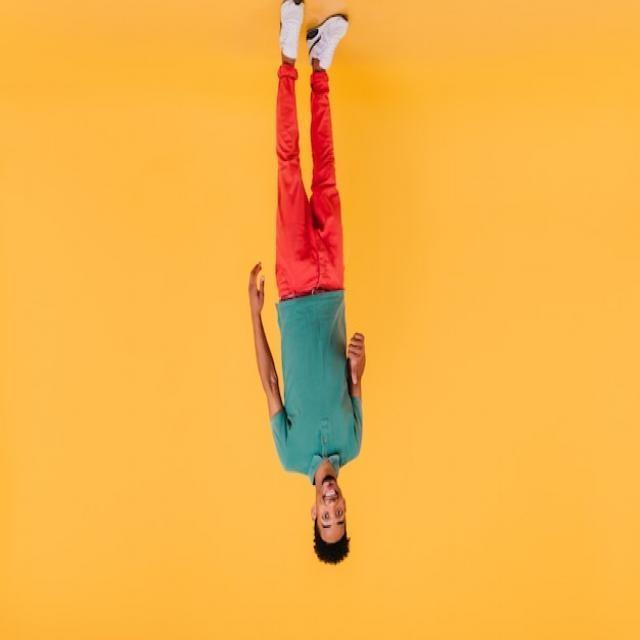no_apron: (346, 328, 374, 380), (242, 262, 268, 314)
